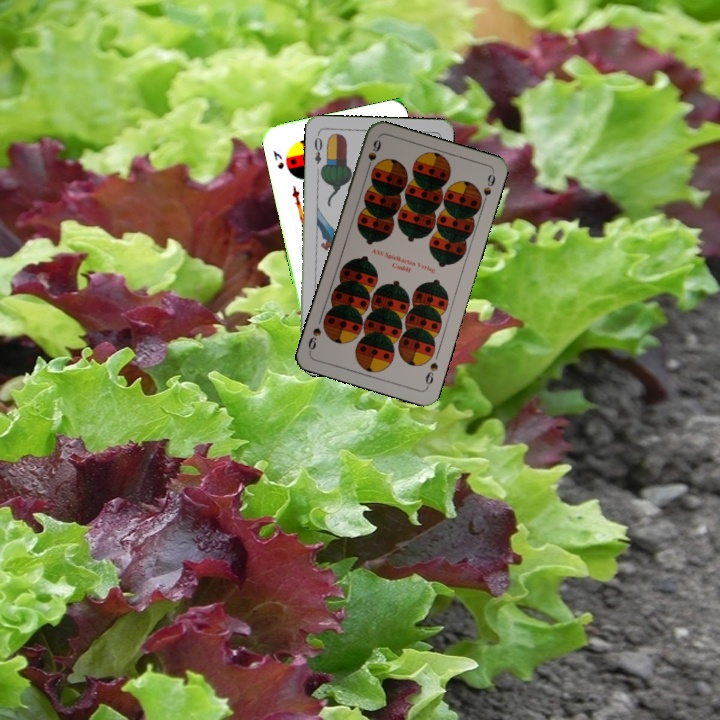EO: (310, 130, 325, 166)
S9: (363, 135, 384, 175), (421, 358, 441, 390)
SK: (269, 146, 286, 172)
